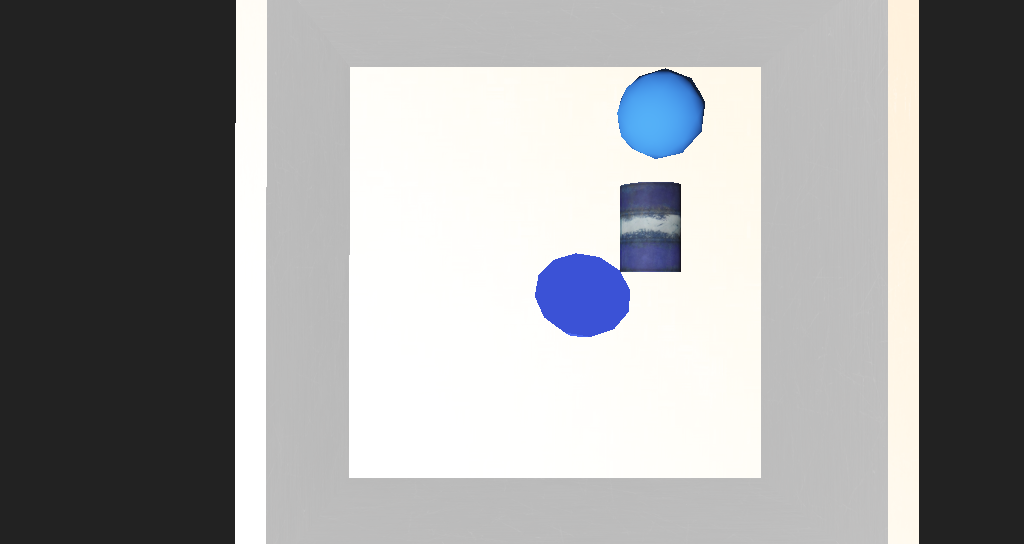cone: (556, 220, 603, 267)
cylinder: (485, 258, 552, 324)
sphere: (546, 169, 613, 212)
